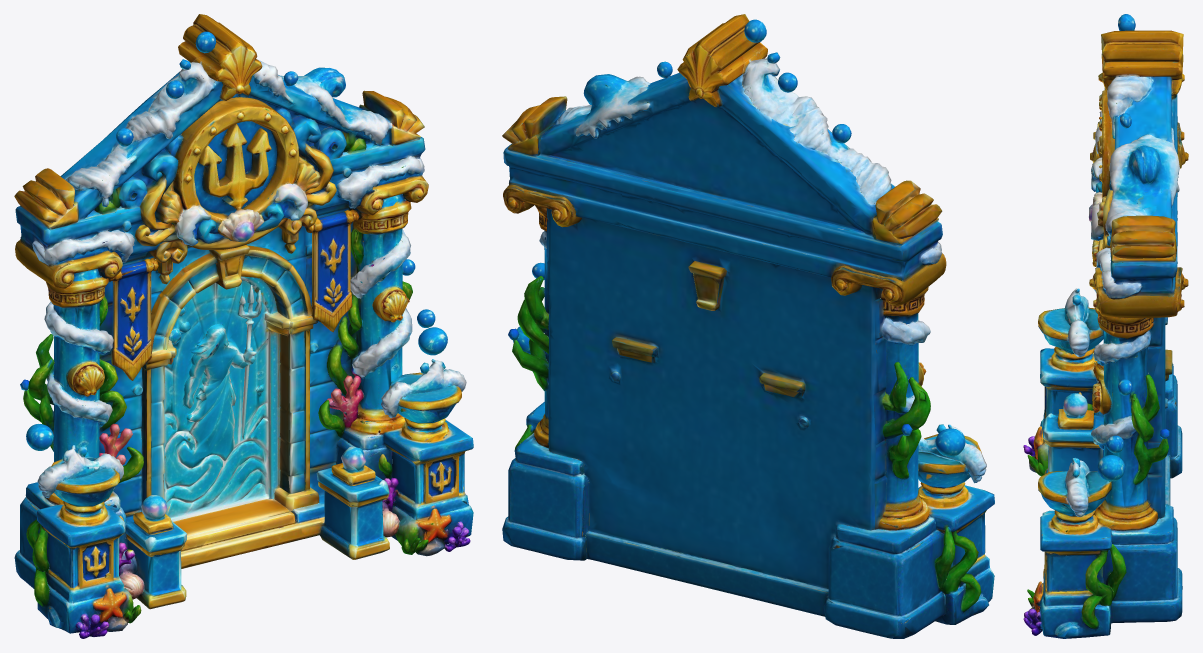
File: gate_poseidon.glb
The picture shows the model from 3 angles, left to right: view 1: azimuth 30°, elevation 25°; view 2: azimuth 150°, elevation 25°; view 3: azimuth 270°, elevation 25°; orthographic projection. The views are drawn at different scales.
Parts seen in each view (by area): view 1: tripo_part_0, tripo_part_9, tripo_part_18, tripo_part_8, tripo_part_5, tripo_part_10, tripo_part_11, tripo_part_12, tripo_part_2, tripo_part_19, tripo_part_14, tripo_part_13 (+29 smaller); view 2: tripo_part_0, tripo_part_3, tripo_part_4, tripo_part_10, tripo_part_8, tripo_part_2, tripo_part_22, tripo_part_19, tripo_part_21, tripo_part_1, tripo_part_25, tripo_part_26 (+6 smaller); view 3: tripo_part_0, tripo_part_4, tripo_part_5, tripo_part_21, tripo_part_8, tripo_part_22, tripo_part_20, tripo_part_13, tripo_part_1, tripo_part_40, tripo_part_28, tripo_part_3 (+16 smaller).
Part boxes in pixels (left/top/right/bottom): tripo_part_0: left=14, top=71, right=425, bottom=517; tripo_part_9: left=163, top=276, right=280, bottom=521; tripo_part_18: left=173, top=96, right=299, bottom=242; tripo_part_8: left=36, top=456, right=125, bottom=633; tripo_part_5: left=383, top=372, right=473, bottom=546; tripo_part_10: left=173, top=494, right=324, bottom=568; tripo_part_11: left=316, top=447, right=389, bottom=559; tripo_part_12: left=183, top=324, right=247, bottom=460; tripo_part_2: left=65, top=59, right=215, bottom=206; tripo_part_19: left=15, top=240, right=122, bottom=330; tripo_part_14: left=305, top=209, right=359, bottom=332; tripo_part_13: left=125, top=512, right=187, bottom=609; tripo_part_0: left=502, top=72, right=942, bottom=588; tripo_part_3: left=823, top=410, right=945, bottom=638; tripo_part_4: left=502, top=330, right=589, bottom=560; tripo_part_10: left=586, top=531, right=828, bottom=616; tripo_part_8: left=918, top=434, right=994, bottom=624; tripo_part_2: left=742, top=52, right=891, bottom=204; tripo_part_22: left=677, top=14, right=767, bottom=107; tripo_part_19: left=831, top=253, right=946, bottom=324; tripo_part_21: left=554, top=74, right=651, bottom=138; tripo_part_1: left=508, top=276, right=548, bottom=391; tripo_part_25: left=883, top=377, right=930, bottom=479; tripo_part_26: left=935, top=527, right=981, bottom=612; tripo_part_0: left=1090, top=76, right=1177, bottom=518; tripo_part_4: left=1094, top=432, right=1182, bottom=623; tripo_part_5: left=1038, top=471, right=1112, bottom=638; tripo_part_21: left=1105, top=128, right=1179, bottom=238; tripo_part_8: left=1038, top=307, right=1103, bottom=443; tripo_part_22: left=1098, top=30, right=1184, bottom=95; tripo_part_20: left=1089, top=266, right=1188, bottom=345; tripo_part_13: left=1043, top=409, right=1103, bottom=473; tripo_part_1: left=1091, top=374, right=1169, bottom=485; tripo_part_40: left=1103, top=347, right=1148, bottom=425; tripo_part_28: left=1081, top=544, right=1126, bottom=629; tripo_part_3: left=1092, top=330, right=1182, bottom=478.
Size of the model in its own units: 10.84 by 13 by 3.73.
59 materials, 59 textured.
